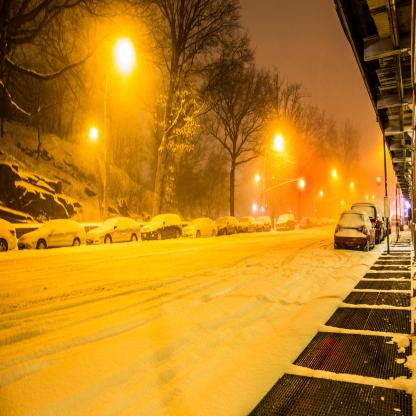other: (250, 127, 385, 218), (102, 28, 138, 85), (83, 118, 107, 147)
